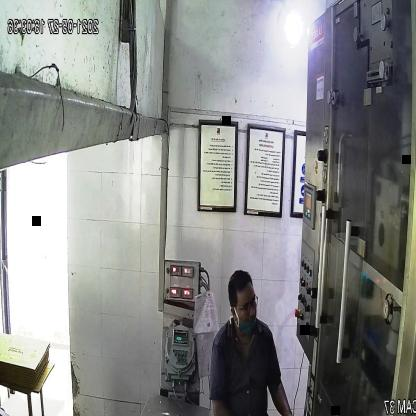goggles: (231, 294, 260, 316)
